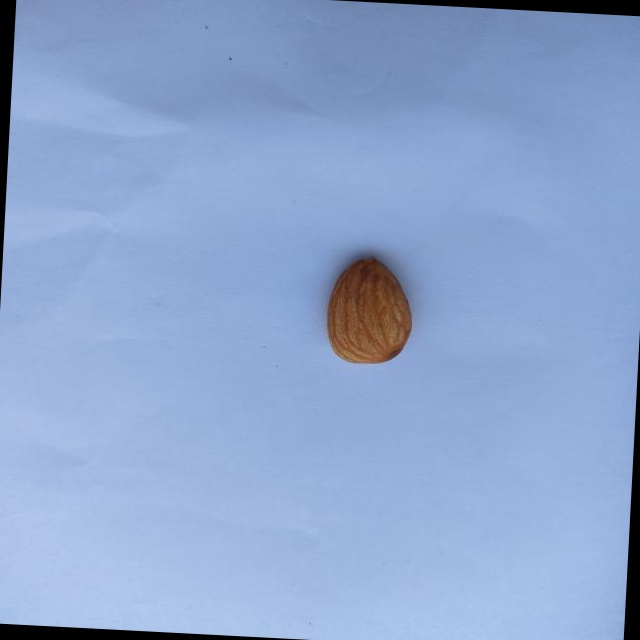grade1: (314, 247, 422, 373)
